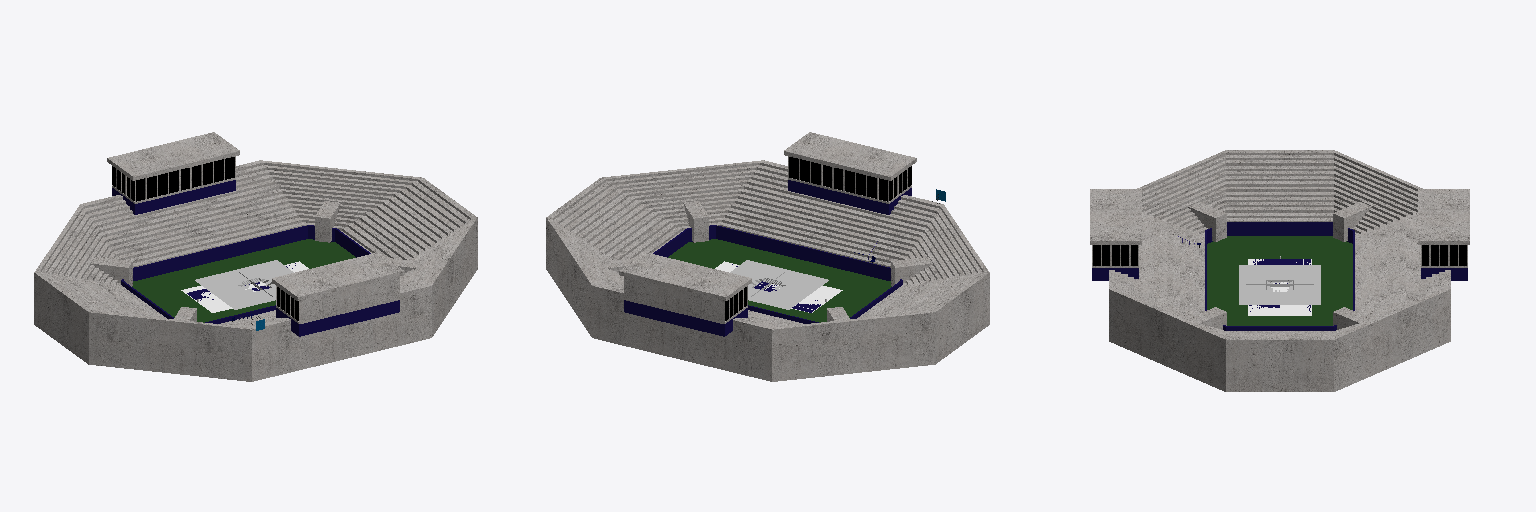
3 views of the same model, side by side, from view 1: azimuth 30°, elevation 25°; view 2: azimuth 150°, elevation 25°; view 3: azimuth 270°, elevation 25° (orthographic).
Visible parts, largest first — view 1: Court_Plane.002, Builiding_Cube.003, CourtWalls_Plane.007, Court_backup_Plane.003, Court.001_Plane.006; view 2: Court_Plane.002, Builiding_Cube.003, CourtWalls_Plane.007, Court_backup_Plane.003, Court.001_Plane.006; view 3: Court_Plane.002, Builiding_Cube.003, Court_backup_Plane.003, Court.001_Plane.006, CourtWalls_Plane.007.
Part boxes in pixels (left/top/right/bottom): Court_Plane.002: left=34, top=160, right=477, bottom=381; Builiding_Cube.003: left=107, top=132, right=404, bottom=336; CourtWalls_Plane.007: left=121, top=225, right=370, bottom=323; Court_backup_Plane.003: left=195, top=260, right=293, bottom=309; Court.001_Plane.006: left=91, top=201, right=419, bottom=321; Court_Plane.002: left=546, top=160, right=989, bottom=381; Builiding_Cube.003: left=619, top=132, right=916, bottom=336; CourtWalls_Plane.007: left=653, top=225, right=902, bottom=323; Court_backup_Plane.003: left=730, top=260, right=828, bottom=309; Court.001_Plane.006: left=604, top=201, right=932, bottom=321; Court_Plane.002: left=1109, top=150, right=1450, bottom=391; Builiding_Cube.003: left=1090, top=189, right=1469, bottom=280; Court_backup_Plane.003: left=1239, top=265, right=1320, bottom=304; Court.001_Plane.006: left=1188, top=202, right=1371, bottom=329; CourtWalls_Plane.007: left=1205, top=222, right=1354, bottom=330.
Size of the model in its own units: 300 by 60.89 by 254.
Materials: 17 (5 with a texture image).